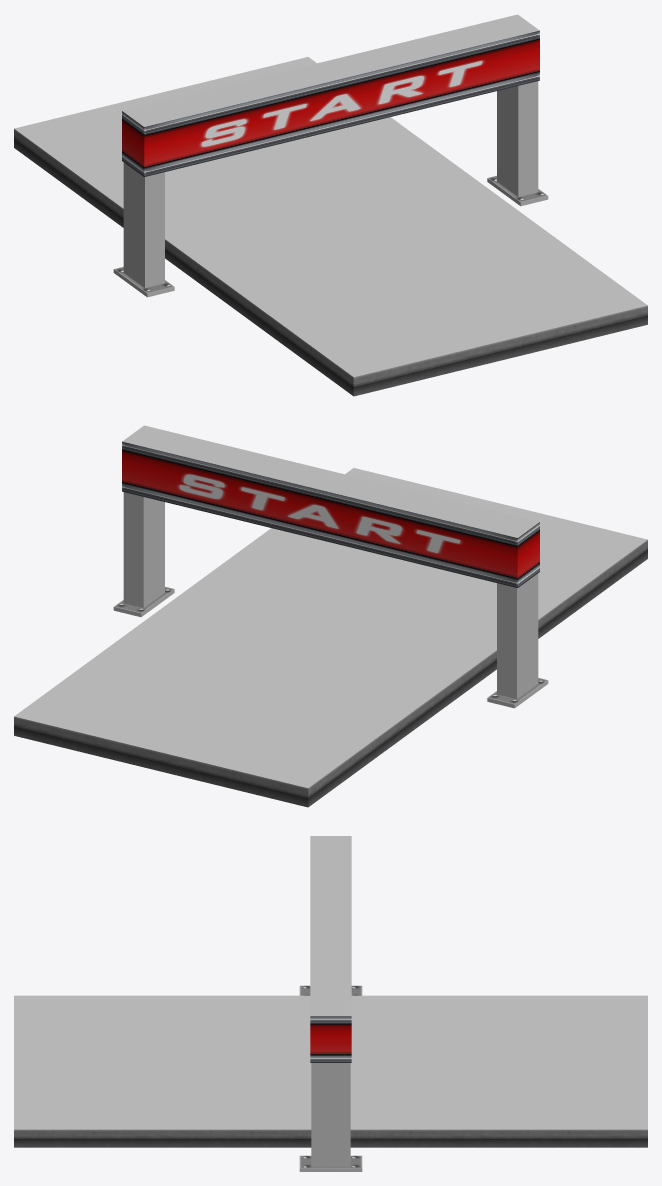
File: Start.fbx
3 views of the same model, one above another, from view 1: azimuth 30°, elevation 25°; view 2: azimuth 150°, elevation 25°; view 3: azimuth 270°, elevation 25° (orthographic). The views are drawn at different scales.
Parts seen in each view (by area): view 1: Empty_Mesh; view 2: Empty_Mesh; view 3: Empty_Mesh.
Part boxes in pixels (x1=…): Empty_Mesh: x1=14, y1=14, x2=647, y2=396; Empty_Mesh: x1=14, y1=425, x2=647, y2=807; Empty_Mesh: x1=14, y1=836, x2=647, y2=1171.
Bounding box in the file's own units: 2180 × 860 × 3200.
